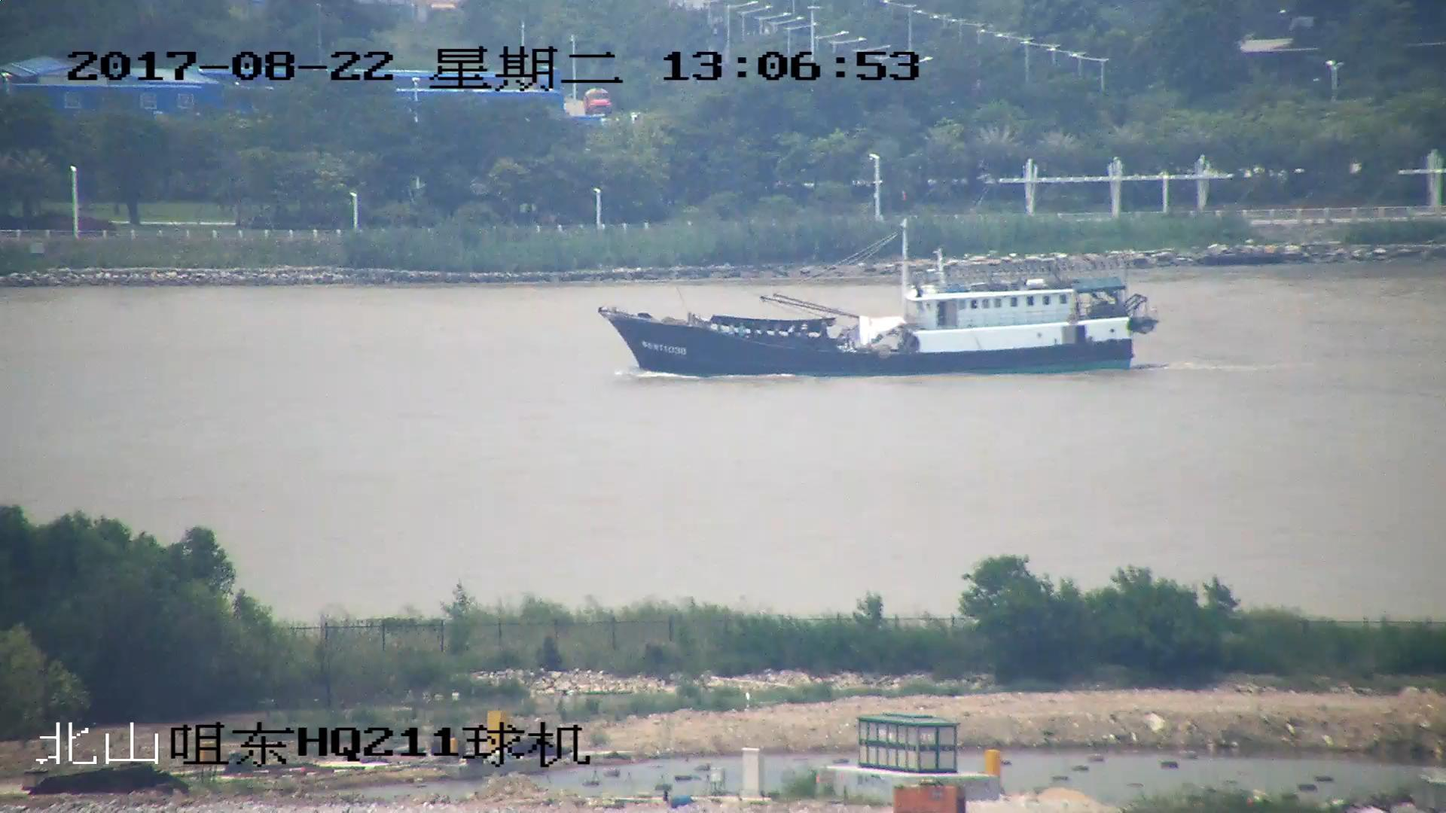fishing boat: (601, 218, 1157, 370)
